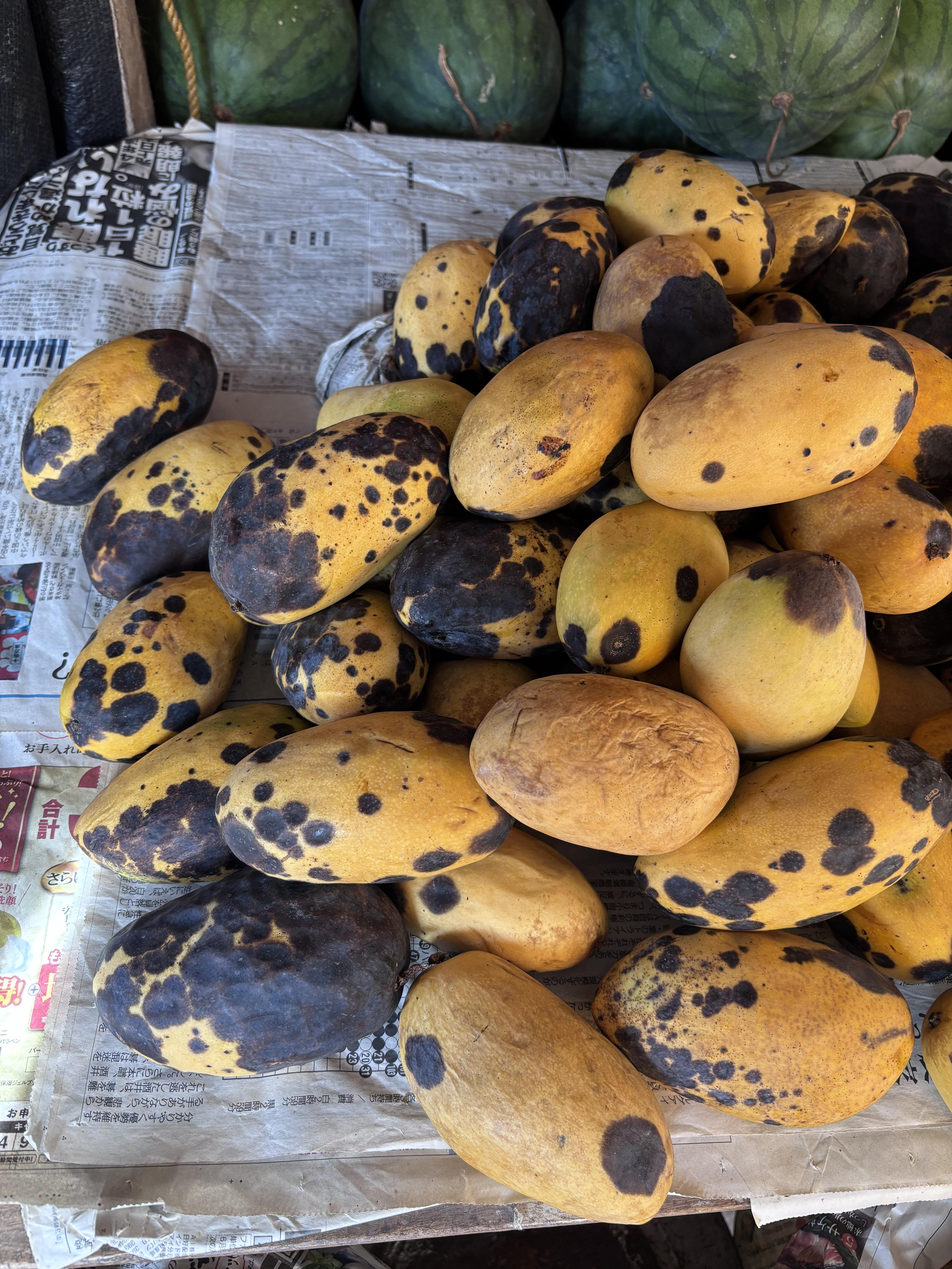mango: (399, 951, 673, 1224), (592, 925, 913, 1127), (636, 736, 952, 931), (637, 736, 952, 931), (630, 324, 918, 511), (210, 413, 449, 624), (470, 673, 738, 855), (450, 331, 654, 521)
occluded: (94, 867, 409, 1077), (216, 712, 512, 886), (209, 413, 449, 624), (74, 702, 311, 883), (680, 550, 866, 758), (60, 571, 246, 761), (21, 329, 216, 505), (81, 421, 273, 599), (389, 828, 609, 972), (556, 501, 728, 678), (770, 464, 952, 616), (391, 513, 577, 661), (604, 149, 775, 295), (272, 588, 429, 725), (593, 236, 734, 384), (474, 221, 612, 372), (830, 832, 952, 984), (393, 240, 495, 380), (799, 195, 908, 323), (751, 189, 855, 293), (886, 330, 952, 490), (830, 653, 952, 739), (315, 377, 473, 443), (861, 172, 952, 282), (418, 658, 538, 728), (878, 266, 952, 357), (496, 196, 602, 256), (576, 460, 648, 516), (920, 988, 952, 1110), (840, 642, 879, 726), (911, 708, 952, 779), (742, 290, 823, 325), (316, 482, 317, 483), (173, 780, 174, 780)
